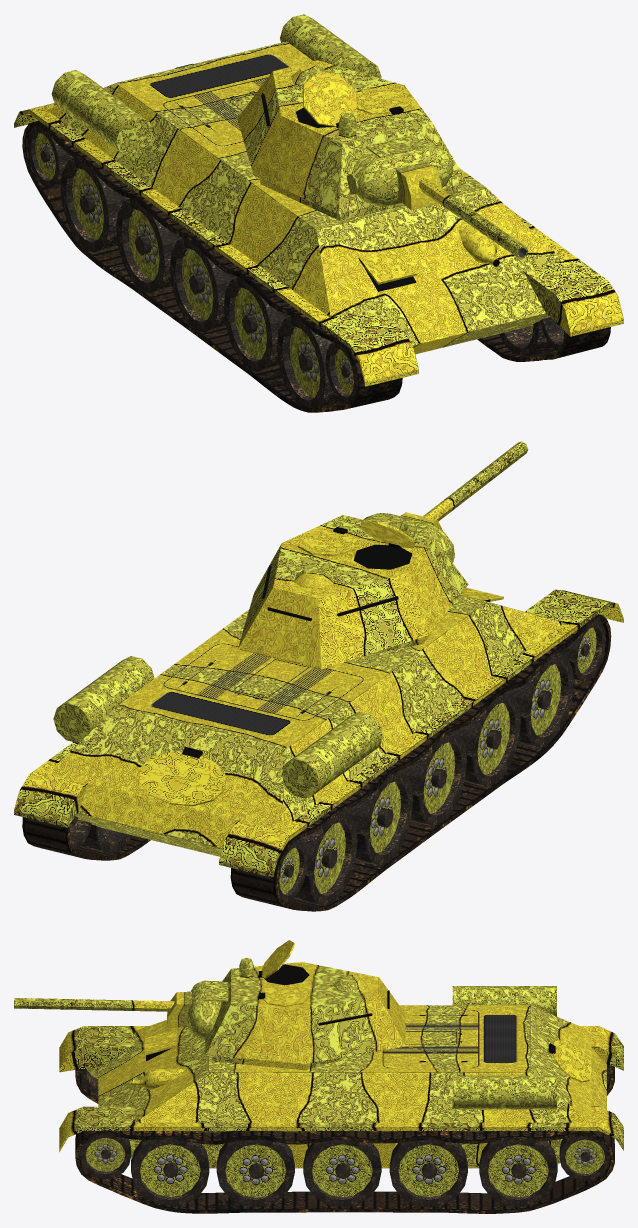
File: Tank_Preview.FBX
3 views of the same model, one above another, from view 1: azimuth 30°, elevation 25°; view 2: azimuth 150°, elevation 25°; view 3: azimuth 270°, elevation 25° (orthographic). The views are drawn at different scales.
Visible parts, largest first — view 1: Hull, Turret, R_Tracks, R_Track_Shield, L_Track_Shield, R_FuelTank, R_Fifth_Wheel, R_Fourth_Wheel, R_Third_Wheel, R_Second_Wheel, R_First_Wheel, Mantlet (+12 smaller); view 2: Hull, Turret, R_Tracks, R_Track_Shield, R_FuelTank, R_Fourth_Wheel, R_Third_Wheel, R_Second_Wheel, R_Fifth_Wheel, R_First_Wheel, L_FuelTank, R_TurretHatch001 (+10 smaller); view 3: Hull, Turret, L_Tracks, L_Track_Shield, L_Fifth_Wheel, L_Second_Wheel, L_Fourth_Wheel, L_First_Wheel, L_Third_Wheel, R_Track_Shield, L_FuelTank, R_FuelTank (+15 smaller).
Boxes of the visible parts, x1,y1,x2,y2 form: Hull: (47, 41, 563, 354); Turret: (237, 60, 467, 220); R_Tracks: (22, 120, 402, 412); R_Track_Shield: (14, 103, 418, 386); L_Track_Shield: (506, 206, 623, 336); R_FuelTank: (51, 70, 153, 156); R_Fifth_Wheel: (60, 158, 130, 252); R_Fourth_Wheel: (116, 198, 183, 293); R_Third_Wheel: (170, 238, 237, 332); R_Second_Wheel: (223, 277, 290, 371); R_First_Wheel: (277, 316, 341, 407); Mantlet: (352, 138, 453, 206); Hull: (47, 595, 564, 856); Turret: (238, 515, 468, 669); R_Tracks: (230, 614, 611, 911); R_Track_Shield: (219, 589, 623, 877); R_FuelTank: (281, 711, 383, 798); R_Fourth_Wheel: (343, 771, 413, 865); R_Third_Wheel: (399, 731, 466, 826); R_Second_Wheel: (453, 692, 520, 786); R_Fifth_Wheel: (293, 812, 357, 905); R_First_Wheel: (506, 653, 573, 748); L_FuelTank: (53, 656, 154, 742); R_TurretHatch001: (139, 751, 226, 806); Hull: (98, 1005, 606, 1168); Turret: (205, 962, 405, 1070); L_Tracks: (75, 1131, 614, 1213); L_Track_Shield: (59, 1106, 623, 1152); L_Fifth_Wheel: (479, 1140, 557, 1207); L_Second_Wheel: (216, 1139, 294, 1206); L_Fourth_Wheel: (389, 1139, 467, 1206); L_First_Wheel: (131, 1139, 209, 1206); L_Third_Wheel: (303, 1139, 381, 1206); R_Track_Shield: (59, 1026, 623, 1072); L_FuelTank: (452, 1075, 556, 1109); R_FuelTank: (452, 986, 556, 1016).
Size of the model in its own units: 3.04 by 2.86 by 7.52.
